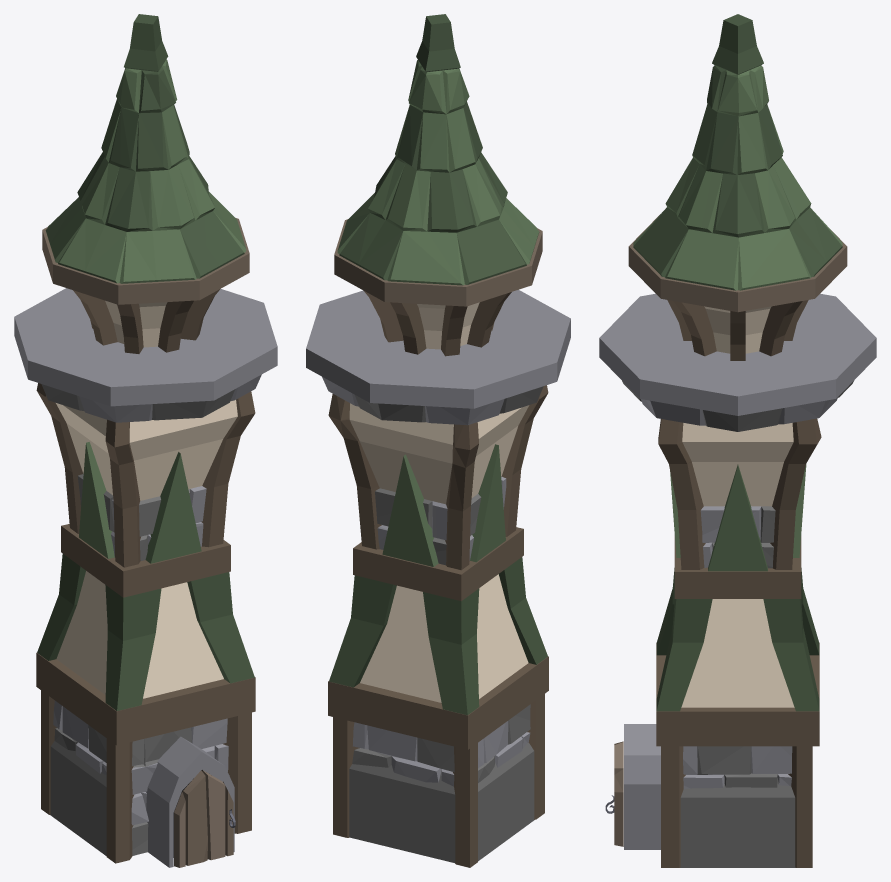
Rendered from Wizard_tower_LVL_2.fbx.
3 renders of one model, left to right at view 1: azimuth 30°, elevation 25°; view 2: azimuth 150°, elevation 25°; view 3: azimuth 270°, elevation 25°, orthographic.
Parts seen in each view (by area): view 1: Wizard_tower_LVL_2; view 2: Wizard_tower_LVL_2; view 3: Wizard_tower_LVL_2.
Boxes of the visible parts, box(x1,y1,x2,y2) form: Wizard_tower_LVL_2: box(14, 14, 277, 867); Wizard_tower_LVL_2: box(306, 14, 570, 867); Wizard_tower_LVL_2: box(599, 14, 876, 867).
Size of the model in its own units: 552 by 1789 by 552.
